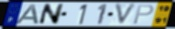1: (97, 3, 109, 26), (79, 3, 89, 25)
A: (14, 4, 41, 25)
N: (38, 3, 66, 26)
P: (132, 4, 155, 25)
V: (114, 3, 139, 26)
